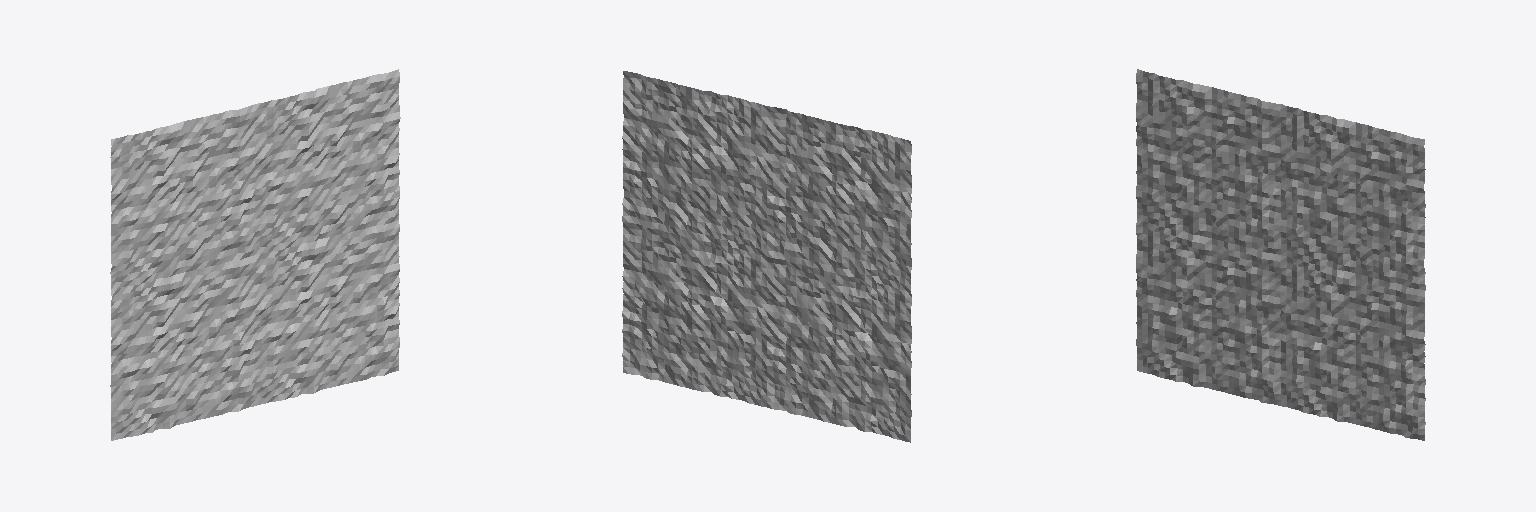
Rendered from terrain2.obj.
3 renders of one model, left to right at view 1: azimuth 30°, elevation 25°; view 2: azimuth 150°, elevation 25°; view 3: azimuth 330°, elevation 25°, orthographic.
Visible parts, largest first — view 1: Plane03; view 2: Plane03; view 3: Plane03.
Part boxes in pixels (left/top/right/bottom): Plane03: left=110, top=69, right=400, bottom=440; Plane03: left=622, top=71, right=911, bottom=442; Plane03: left=1136, top=69, right=1425, bottom=440.
Size of the model in its own units: 1000 by 1000 by 20.39.